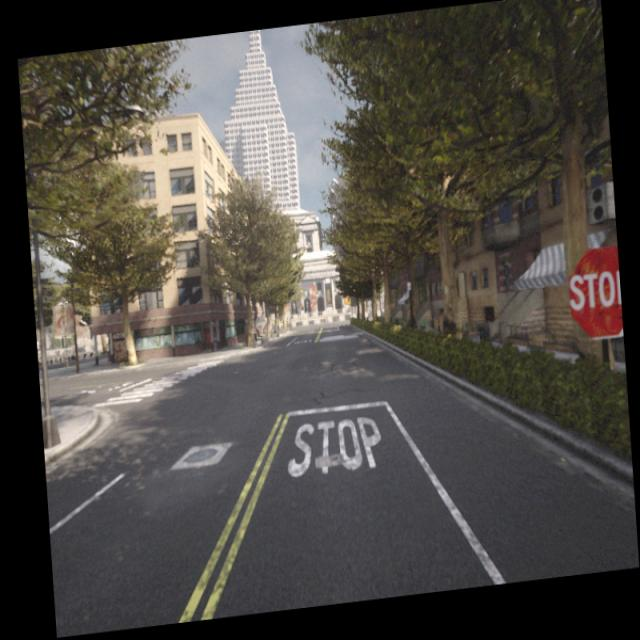stop sign: (565, 244, 624, 342), (568, 269, 621, 311)
